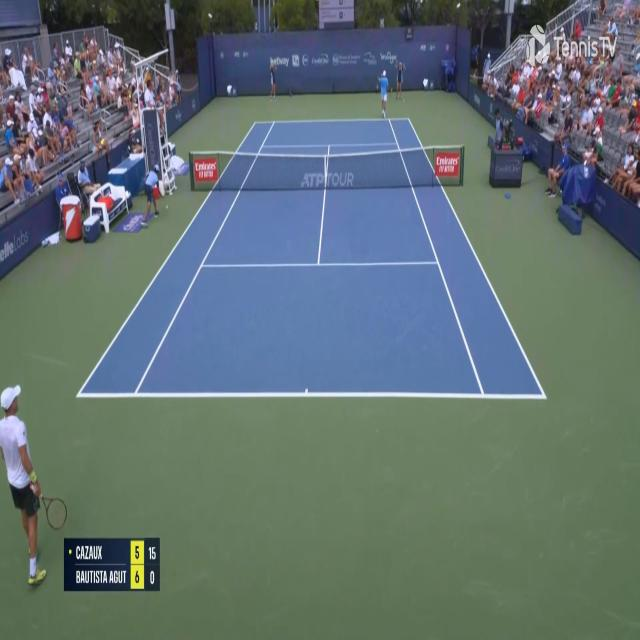tennis-player: (0, 380, 70, 588), (378, 68, 390, 119)
